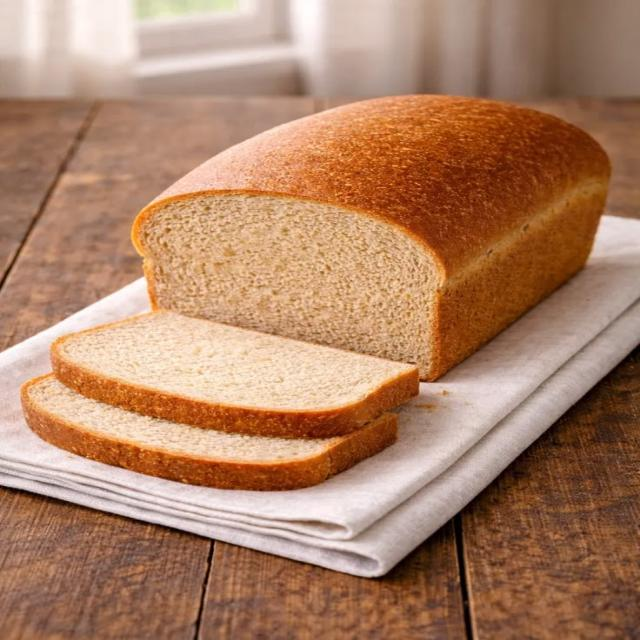sliced_bread: (51, 311, 418, 437), (22, 374, 397, 490)
